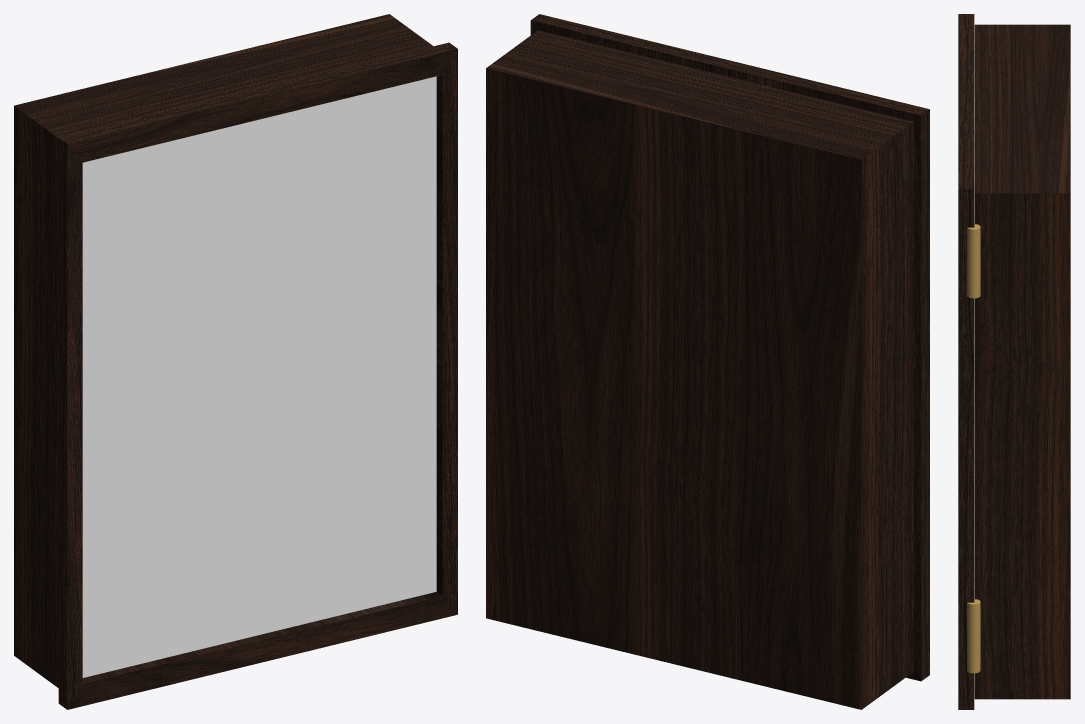
The model's file is Espejo.fbx.
3 views of the same model, side by side, from view 1: azimuth 30°, elevation 25°; view 2: azimuth 150°, elevation 25°; view 3: azimuth 270°, elevation 25° (orthographic). The views are drawn at different scales.
Parts seen in each view (by area): view 1: Cube.001, Cube; view 2: Cube, Cube.001; view 3: Cube, Cube.001, Cylinder.
Part boxes in pixels (x1,y1,x2,y2): Cube.001: (58, 42, 457, 709); Cube: (14, 14, 432, 687); Cube: (486, 30, 913, 709); Cube.001: (530, 14, 929, 681); Cube: (974, 24, 1070, 699); Cube.001: (958, 14, 974, 709); Cylinder: (967, 224, 980, 673).
Size of the model in its own units: 52.56 by 72 by 14.04.
Materials: 3 (1 with a texture image).
